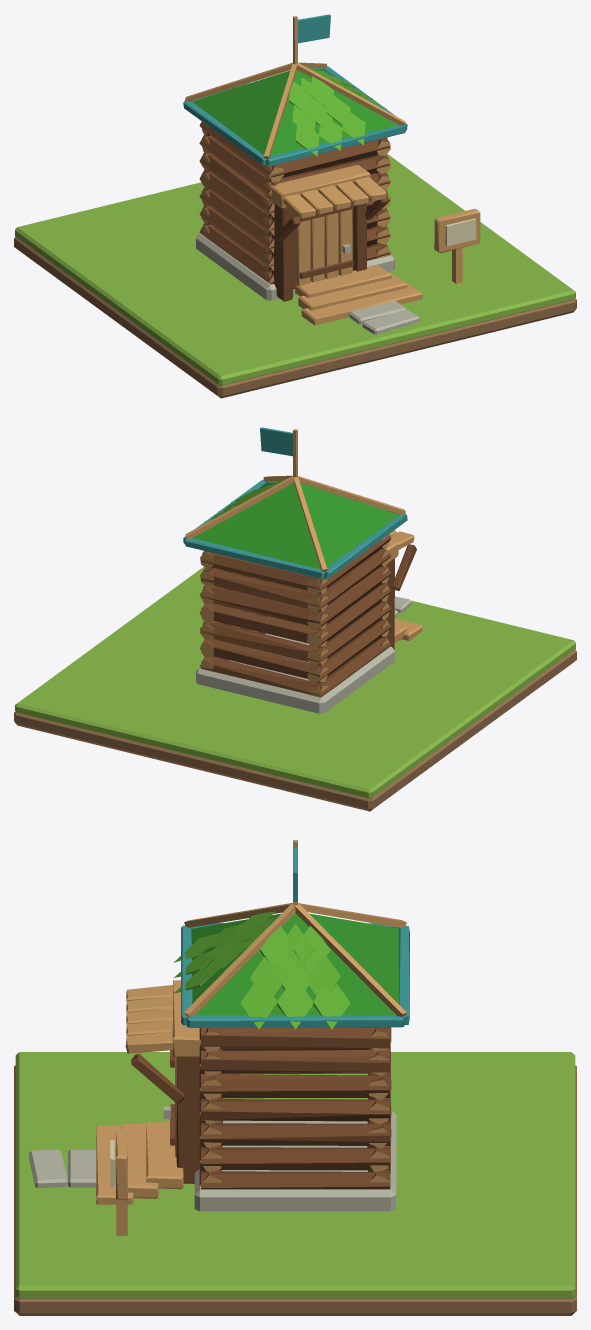
File: town_hall_l02_active_LOD1.glb
3 renders of one model, top to bottom at view 1: azimuth 30°, elevation 25°; view 2: azimuth 150°, elevation 25°; view 3: azimuth 270°, elevation 25°, orthographic. The views are drawn at different scales.
Parts seen in each view (by area): view 1: town_hall_l02_active_foundation.001, town_hall_l02_active_grass_tile.001, town_hall_l02_active_earth_tile.001, town_hall_l02_active_path_stone.005, town_hall_l02_active_path_stone.004; view 2: town_hall_l02_active_grass_tile.001, town_hall_l02_active_foundation.001, town_hall_l02_active_earth_tile.001; view 3: town_hall_l02_active_grass_tile.001, town_hall_l02_active_foundation.001, town_hall_l02_active_earth_tile.001, town_hall_l02_active_path_stone.005, town_hall_l02_active_path_stone.004.
Boxes of the visible parts, box(x1,y1,x2,y2) form: town_hall_l02_active_foundation.001: box(183, 14, 480, 325); town_hall_l02_active_grass_tile.001: box(15, 154, 575, 385); town_hall_l02_active_earth_tile.001: box(14, 236, 576, 398); town_hall_l02_active_path_stone.005: box(362, 309, 419, 334); town_hall_l02_active_path_stone.004: box(349, 300, 406, 324); town_hall_l02_active_grass_tile.001: box(15, 566, 575, 798); town_hall_l02_active_foundation.001: box(183, 427, 422, 713); town_hall_l02_active_earth_tile.001: box(14, 649, 576, 811); town_hall_l02_active_grass_tile.001: box(15, 1052, 575, 1298); town_hall_l02_active_foundation.001: box(96, 840, 409, 1235); town_hall_l02_active_earth_tile.001: box(14, 1065, 576, 1315); town_hall_l02_active_path_stone.005: box(29, 1149, 67, 1188); town_hall_l02_active_path_stone.004: box(68, 1149, 96, 1187).
Size of the model in its own units: 3.6 by 2.53 by 3.6.
